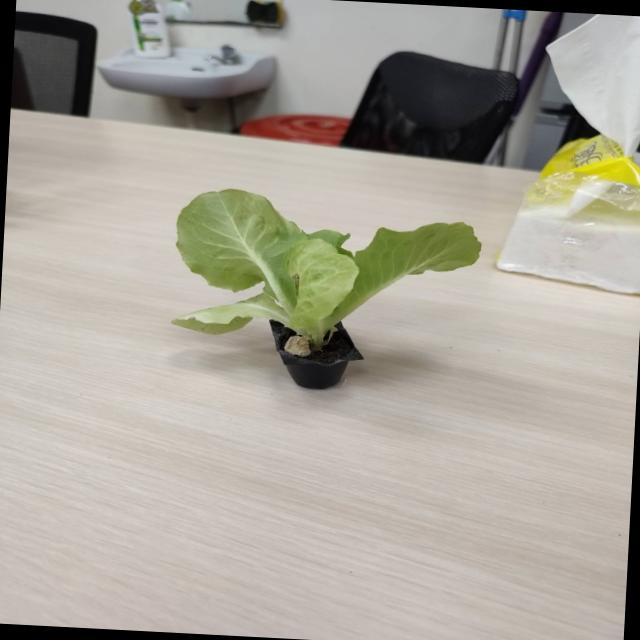Lettuce-Not-Ready-to-Harvest: (173, 189, 479, 350)
